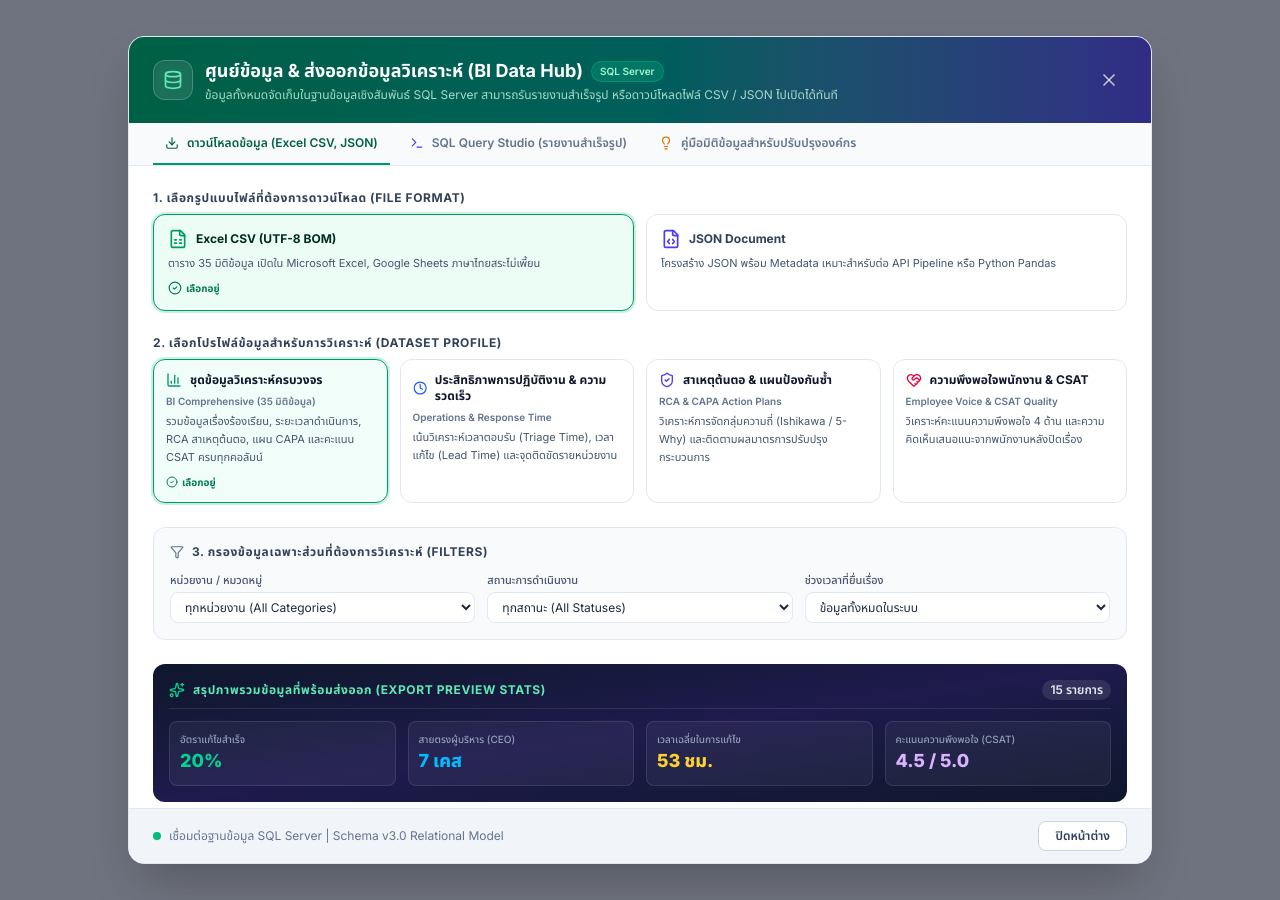
Test case: tabs › lists the four guide topics
Click the button "คู่มือมิติข้อมูลสำหรับปรับปรุงองค์กร" at point(758, 150), box 647,135 -> 868,165
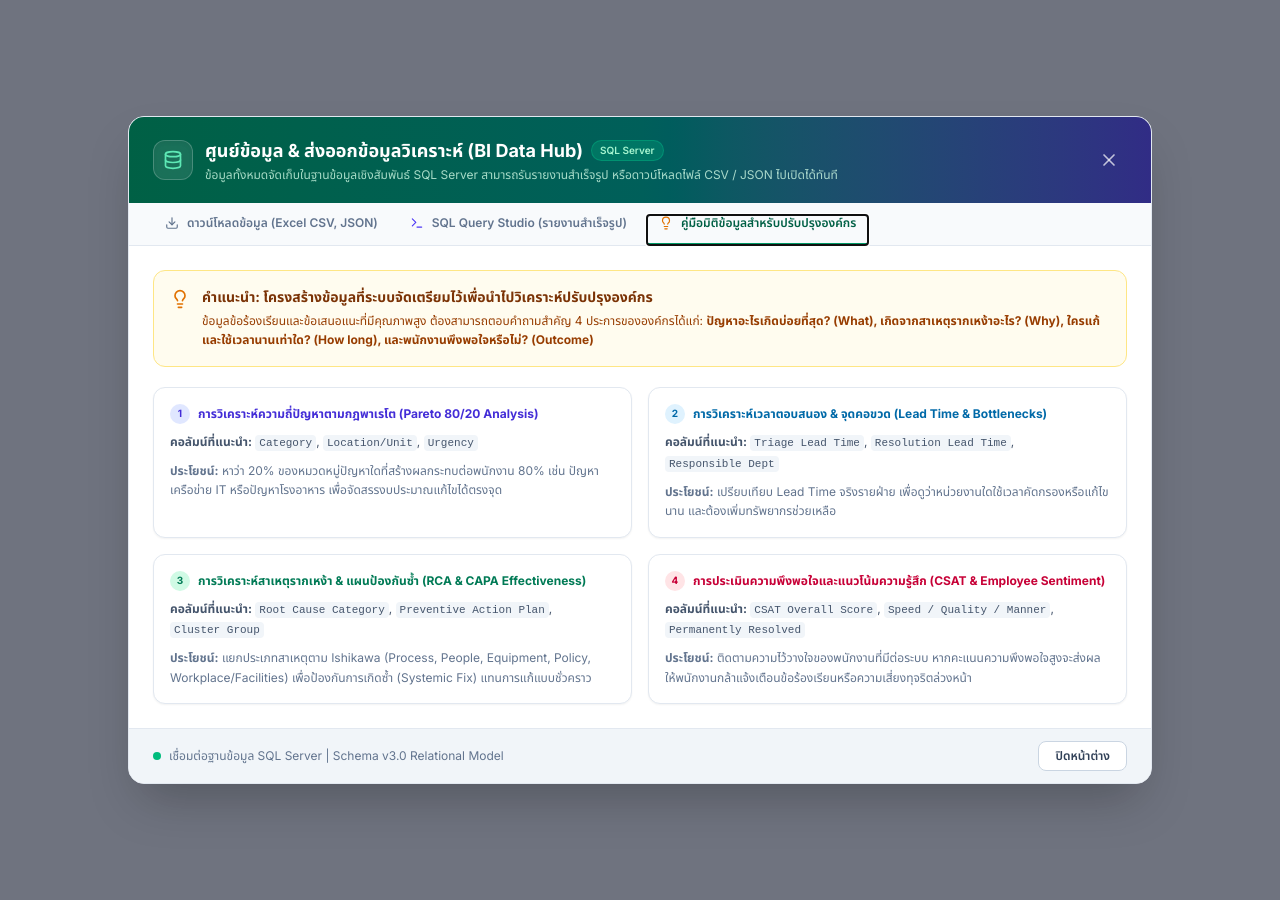
Expected: the text "การวิเคราะห์ความถี่ปัญหาตามกฎพาเรโต (Pareto 80/20 Analysis)" is shown, 198,406 -> 538,422
Expected: the text "การวิเคราะห์เวลาตอบสนอง & จุดคอขวด (Lead Time & Bottlenecks)" is shown, 693,406 -> 1047,422
Expected: the text "RCA & CAPA Effectiveness" is shown, 198,572 -> 586,588
